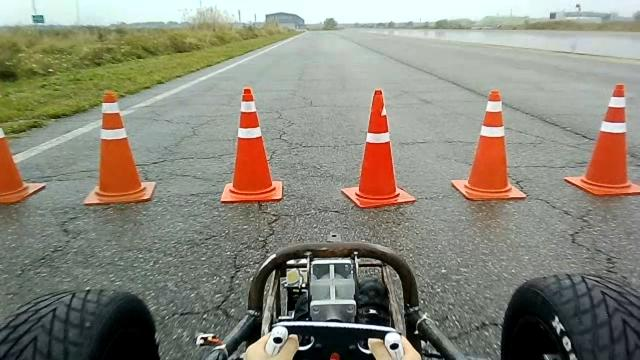red cone: (340, 88, 417, 209), (450, 88, 527, 201), (563, 83, 639, 196), (83, 89, 156, 205), (220, 86, 283, 204)
